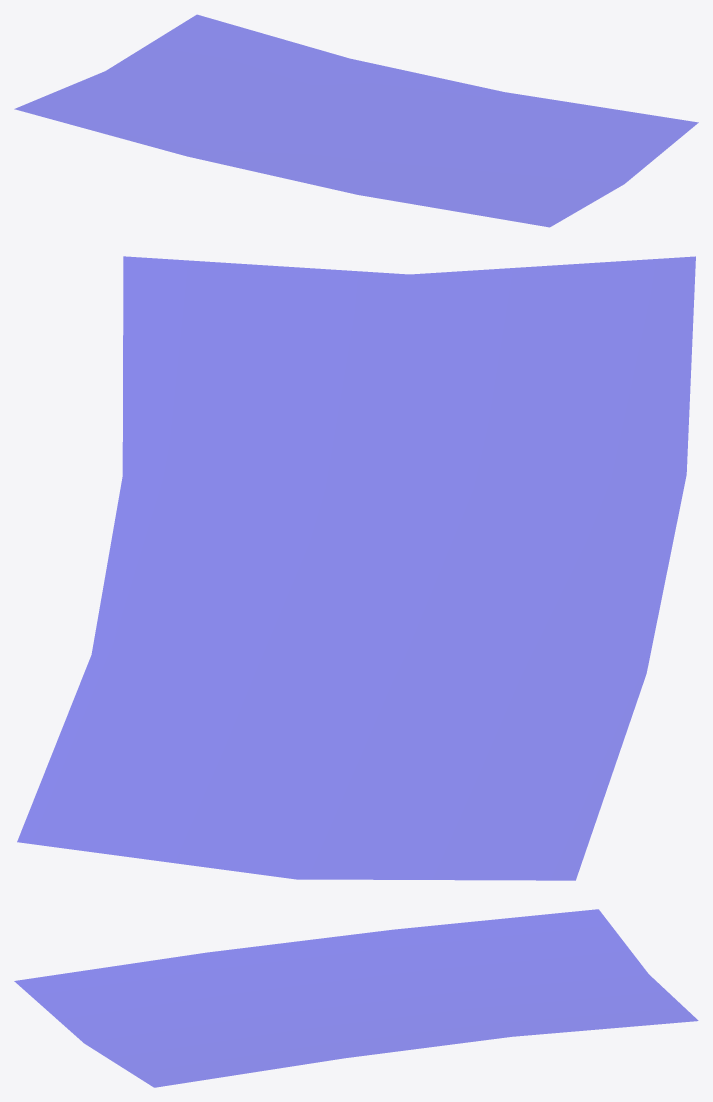
The model's file is track_la_coll_road_46.fbx.
3 renders of one model, top to bottom at view 1: azimuth 30°, elevation 25°; view 2: azimuth 150°, elevation 25°; view 3: azimuth 270°, elevation 25°, orthographic. The views are drawn at different scales.
Visible parts, largest first — view 1: track_la_coll_road_46; view 2: track_la_coll_road_46; view 3: track_la_coll_road_46.
Boxes of the visible parts, x1,y1,x2,y2 form: track_la_coll_road_46: (14,14,698,227); track_la_coll_road_46: (17,256,695,880); track_la_coll_road_46: (14,909,698,1087).
Bounding box in the file's own units: 39.62 × 4.26 × 52.42.
